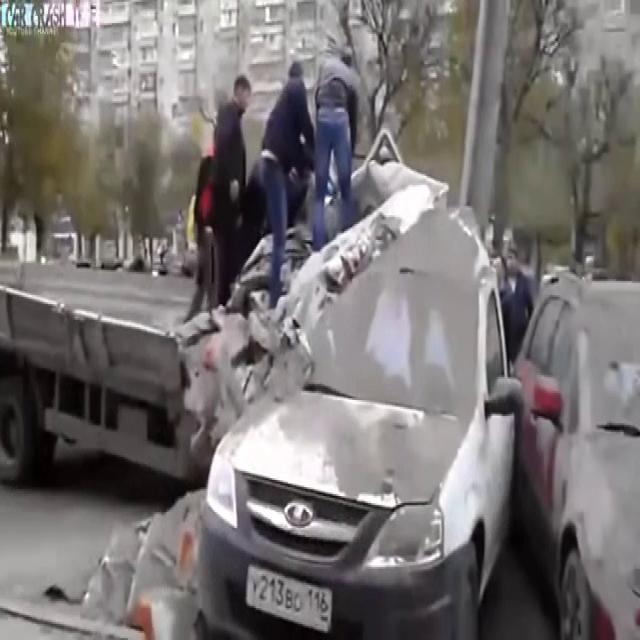accident: (115, 179, 379, 603)
